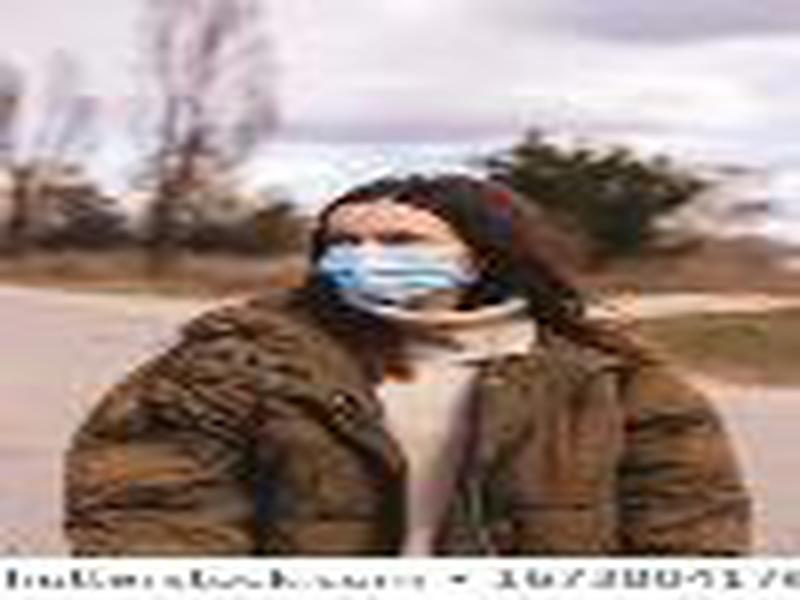with_mask: (314, 177, 514, 318)
